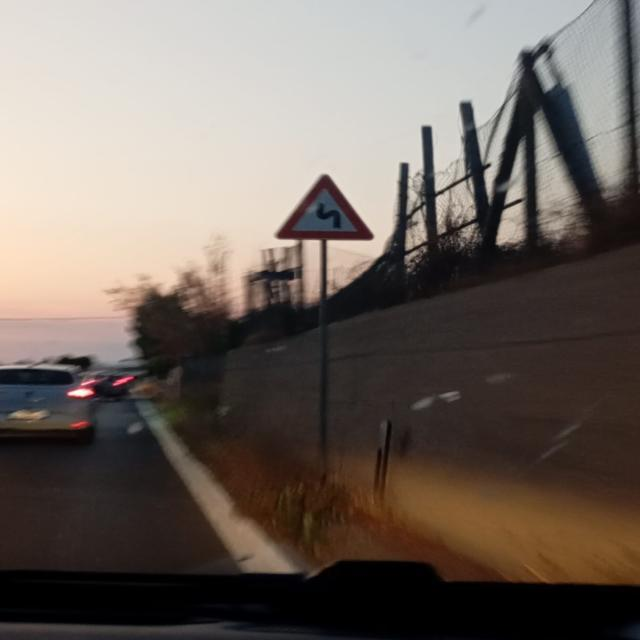warn_double_curve: (273, 172, 375, 242)
